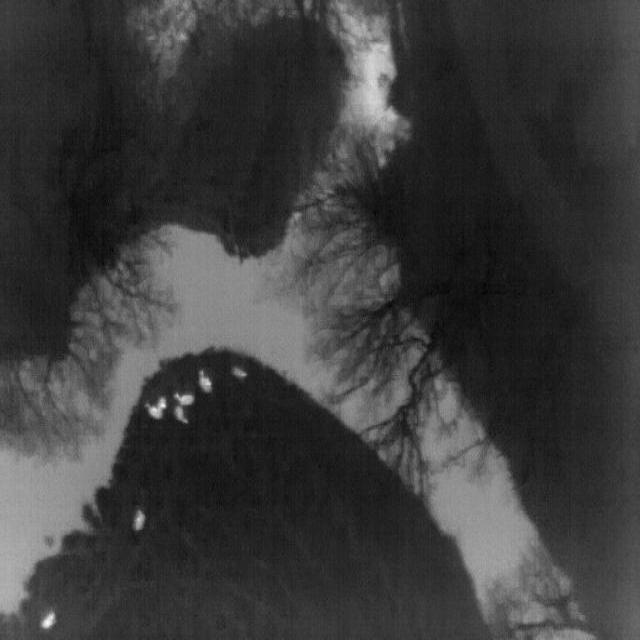deer: (197, 370, 213, 393), (39, 611, 57, 630), (144, 403, 163, 419), (172, 392, 195, 405), (132, 510, 146, 530), (174, 406, 188, 423), (232, 366, 248, 379), (156, 396, 168, 411)
